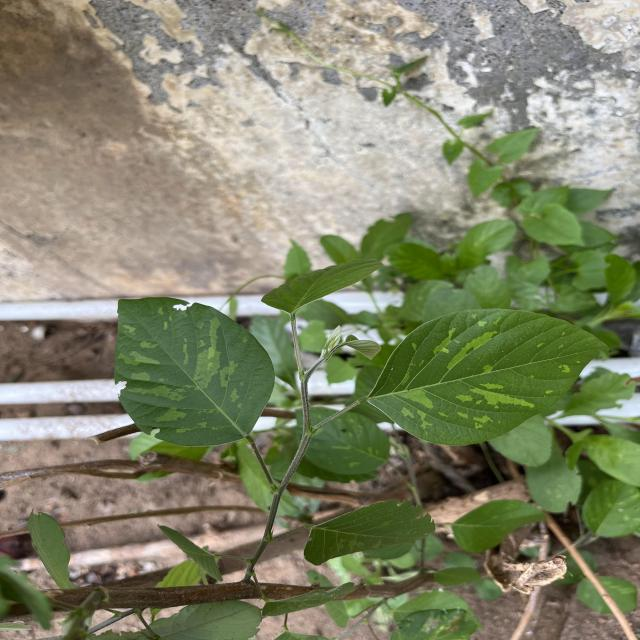Desmodium gangeticum: (365, 305, 611, 448), (110, 294, 278, 448)
